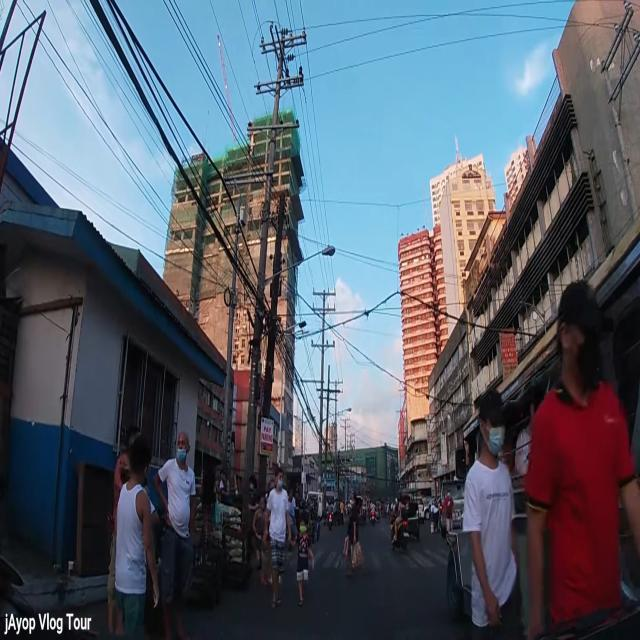car: (440, 481, 464, 538), (424, 498, 436, 518), (416, 496, 424, 524)
jeepney: (447, 231, 639, 640), (356, 496, 366, 526)
motorcycle: (392, 496, 409, 558), (327, 498, 334, 531), (369, 500, 377, 525)
tricycle: (306, 491, 323, 520)
